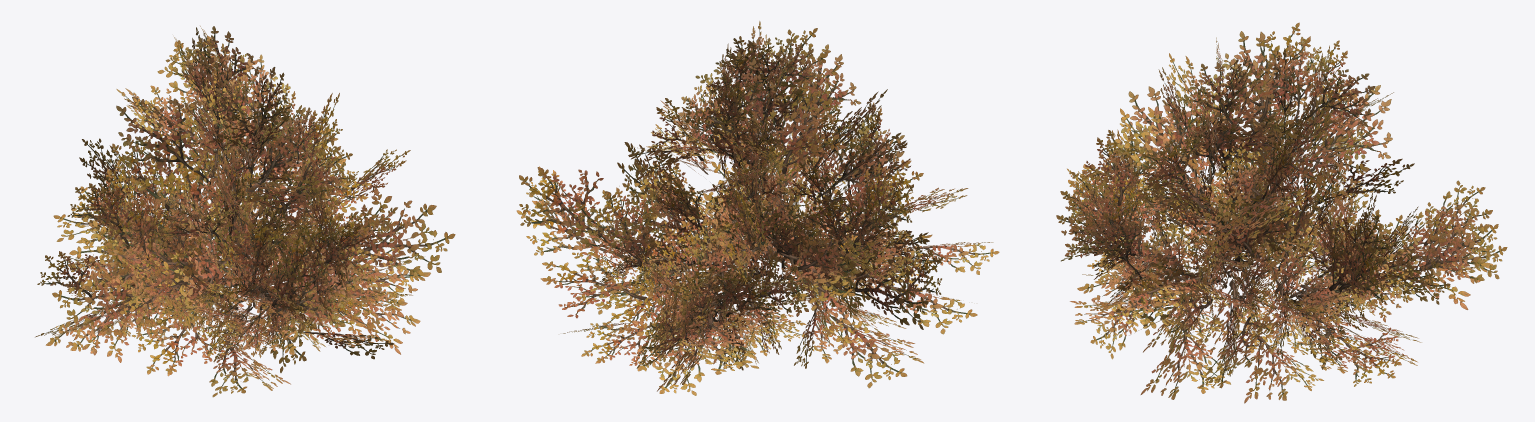
The model's file is Yland1_yz_08 Yland1.FBX.
3 renders of one model, left to right at view 1: azimuth 30°, elevation 25°; view 2: azimuth 150°, elevation 25°; view 3: azimuth 270°, elevation 25°, orthographic. The views are drawn at different scales.
Parts seen in each view (by area): view 1: Yland1_yz_08 Yland1; view 2: Yland1_yz_08 Yland1; view 3: Yland1_yz_08 Yland1.
Boxes of the visible parts, x1,y1,x2,y2 form: Yland1_yz_08 Yland1: (35, 26, 455, 397); Yland1_yz_08 Yland1: (516, 21, 999, 395); Yland1_yz_08 Yland1: (1056, 22, 1507, 403).
Bounding box in the file's own units: 5.16 × 3.91 × 4.92.
